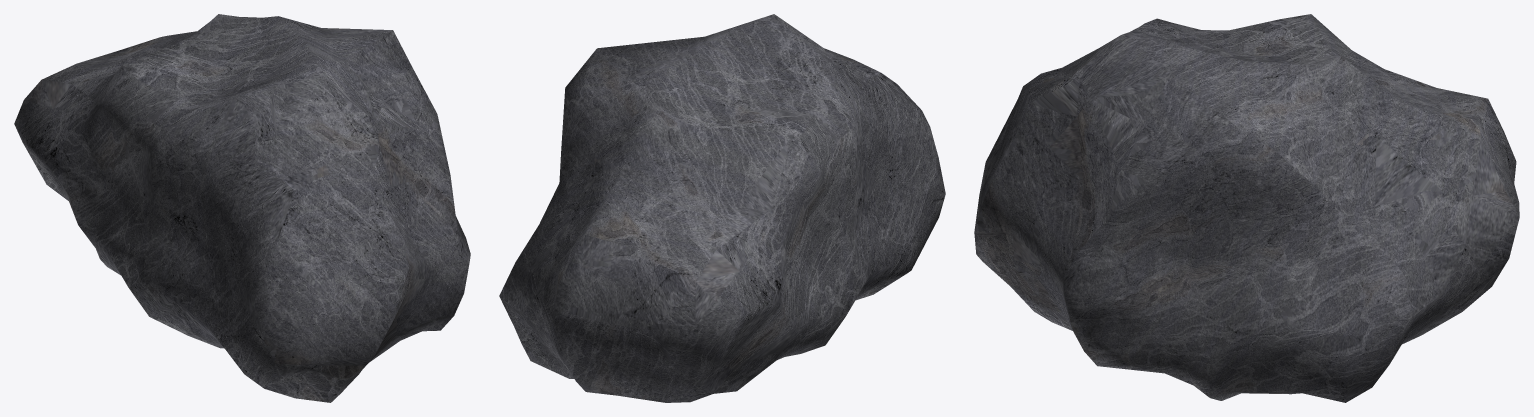
The picture shows the model from 3 angles, left to right: view 1: azimuth 30°, elevation 25°; view 2: azimuth 150°, elevation 25°; view 3: azimuth 270°, elevation 25°; orthographic projection. The views are drawn at different scales.
Parts seen in each view (by area): view 1: rock; view 2: rock; view 3: rock.
Part boxes in pixels (<box>): rock: <box>14,14,470,402</box>; rock: <box>499,14,945,402</box>; rock: <box>974,14,1519,402</box>.
Size of the model in its own units: 125 by 127 by 195.
Materials: 1 (1 with a texture image).
